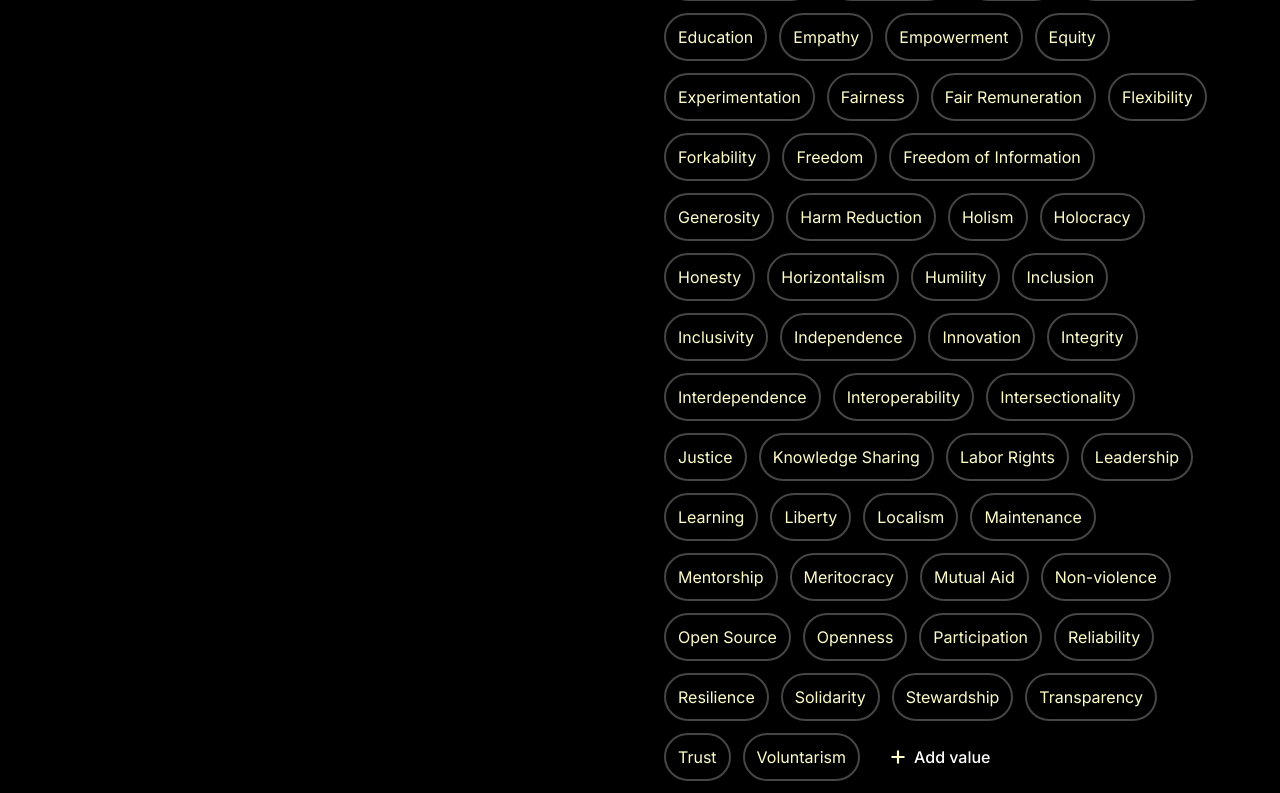
Test: CoreValuesSelectScreen › custom chip — confirmed vs dismissed › keeps the custom chip selected when Add Value is clicked
(page scrolled)
Click the button "Add value": (939, 757) [872,735,1006,779]
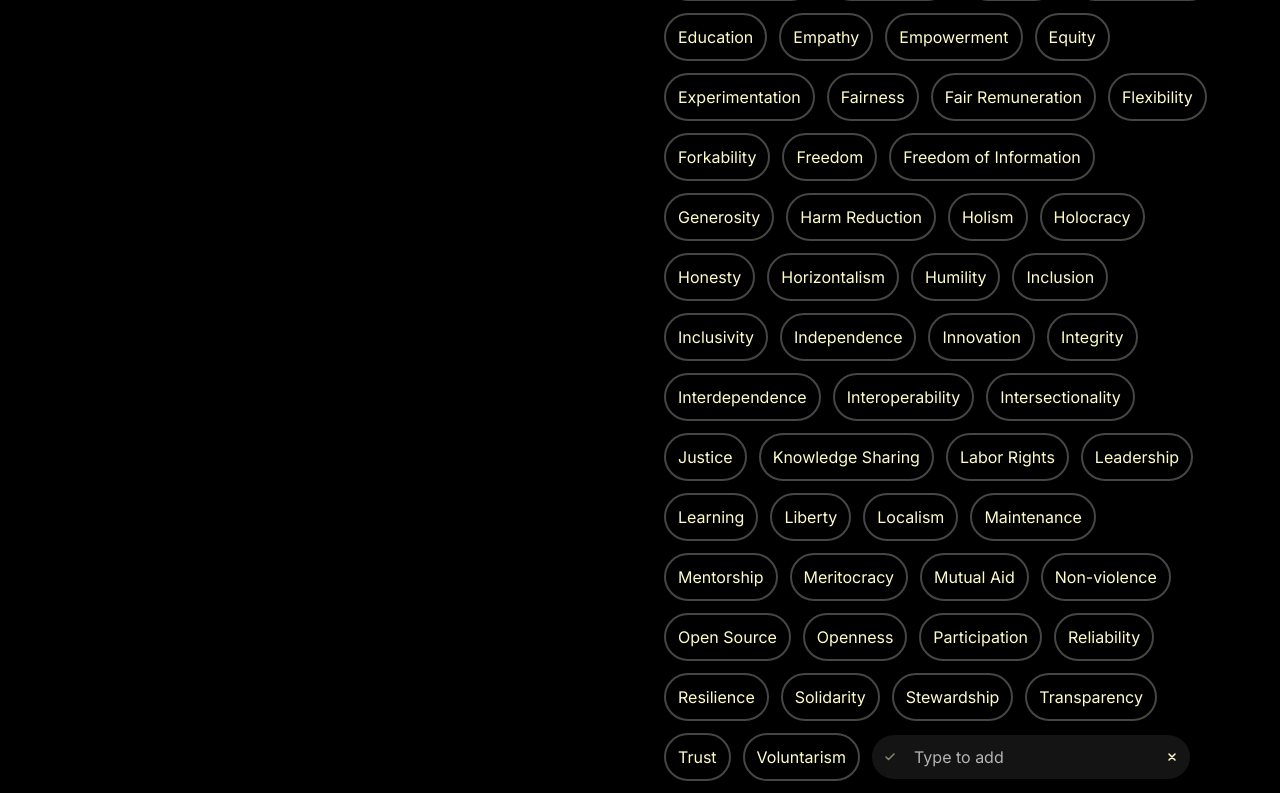
In the field with placeholder "Type to add": (1031, 757) [914,745,1148,769], type "ZZTopBespokeValue"
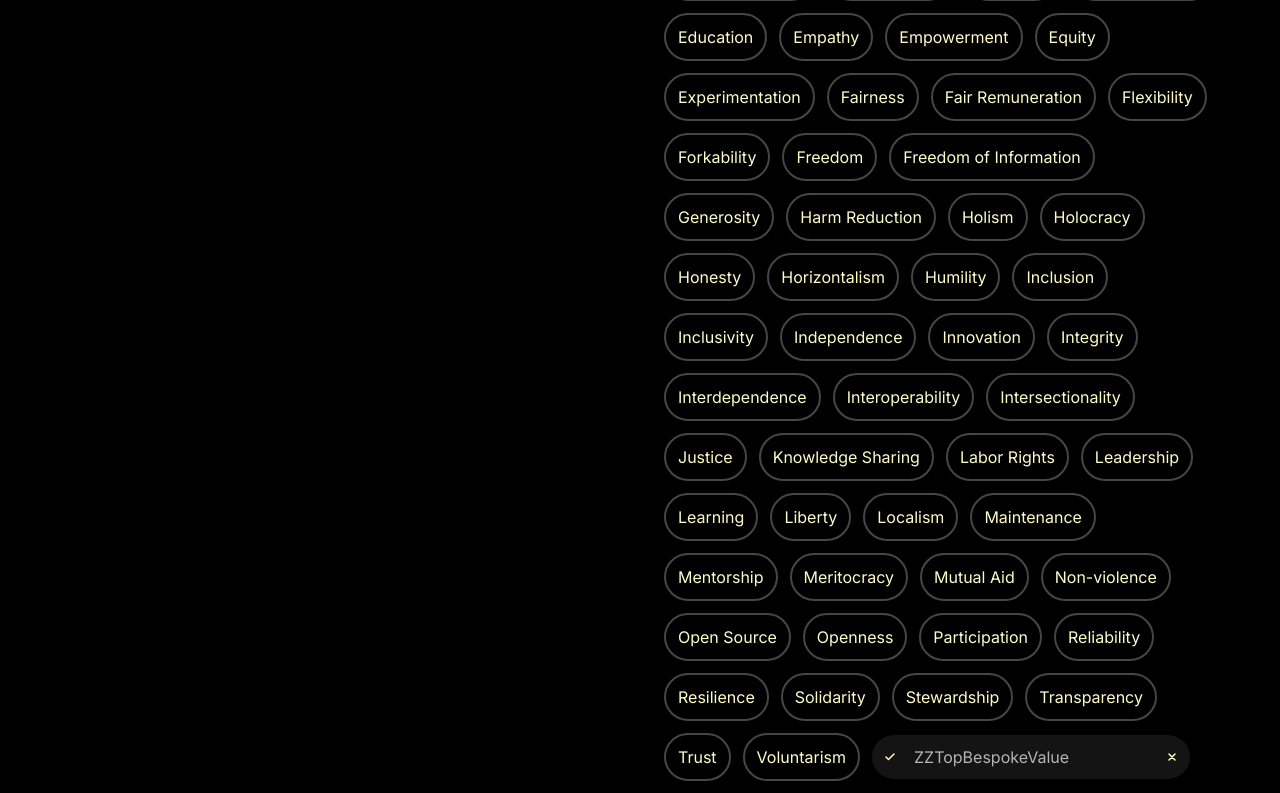
Click the button named "Confirm": (890, 757) [878,745,902,769]
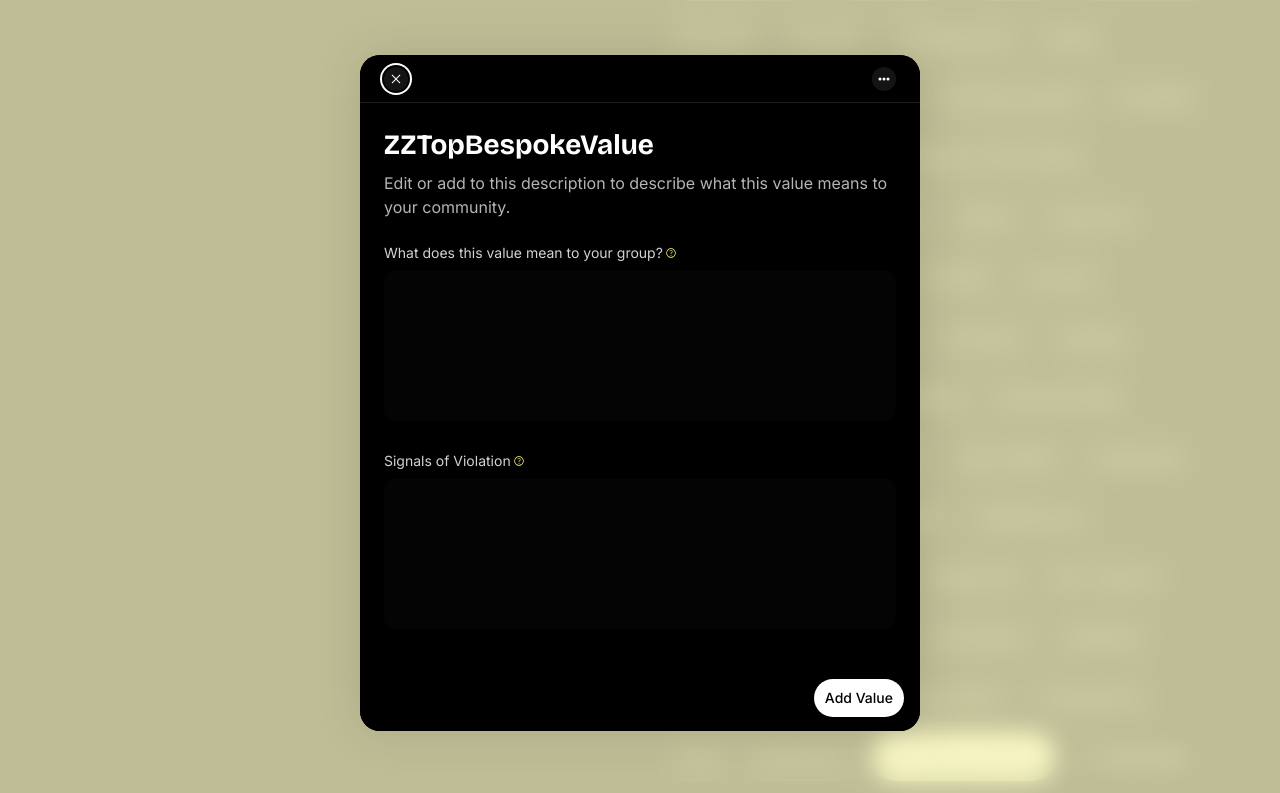
Click the button "Add Value": (859, 698) [814,679,904,717]
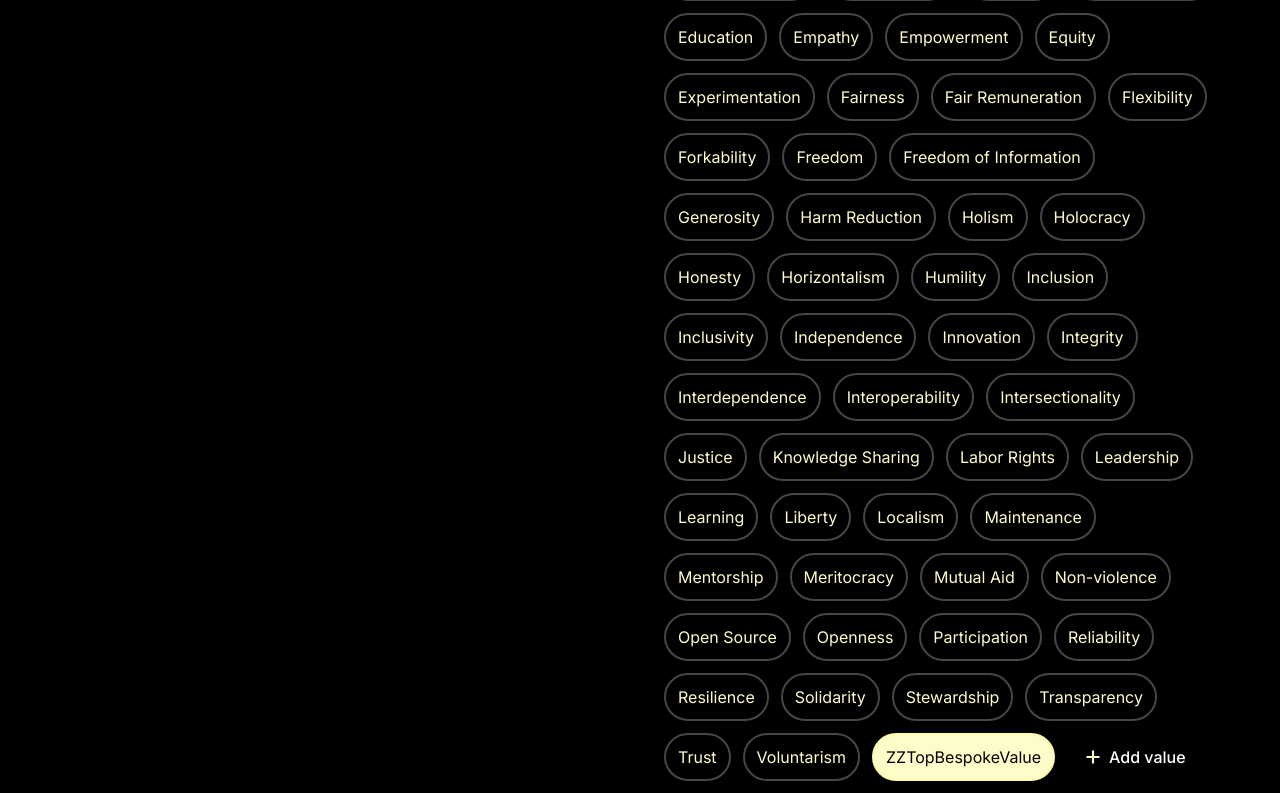
Now the dialog is gone
